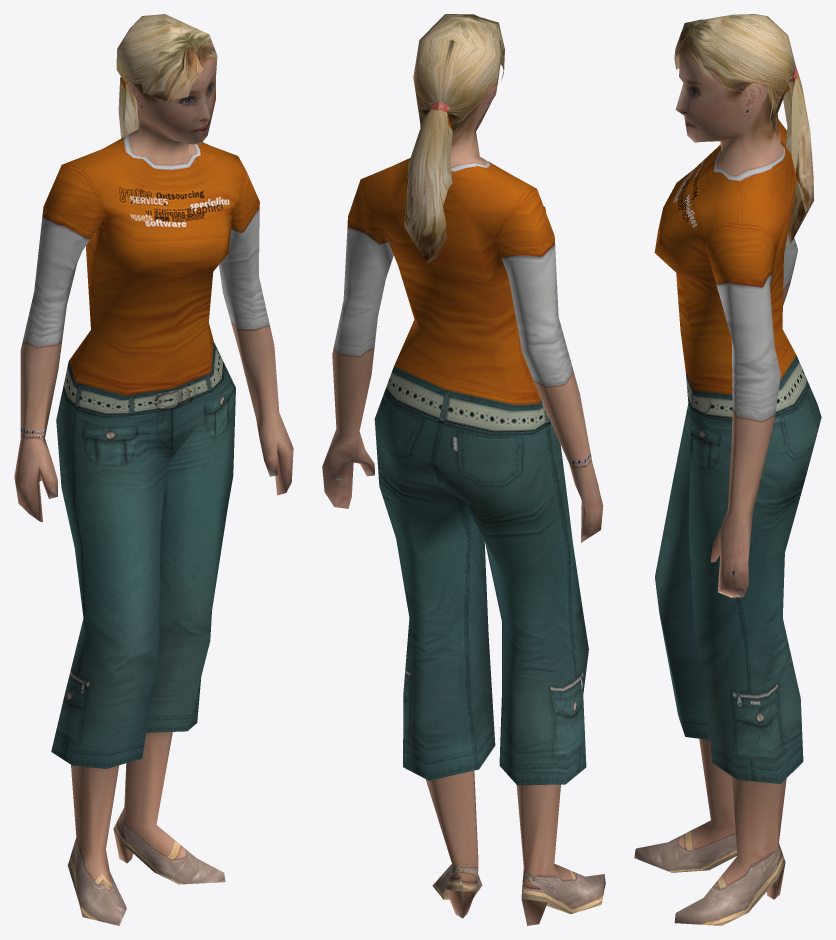
Rendered from sm_casual15_f.fbx.
The picture shows the model from 3 angles, left to right: view 1: azimuth 30°, elevation 25°; view 2: azimuth 150°, elevation 25°; view 3: azimuth 270°, elevation 25°; orthographic projection. The views are drawn at different scales.
Visible parts, largest first — view 1: sm_casual15_f; view 2: sm_casual15_f; view 3: sm_casual15_f.
Boxes of the visible parts, x1,y1,x2,y2 form: sm_casual15_f: [14, 14, 293, 925]; sm_casual15_f: [322, 14, 605, 925]; sm_casual15_f: [634, 14, 821, 925].
Bounding box in the file's own units: 0.5673 × 1.7 × 0.3236.
